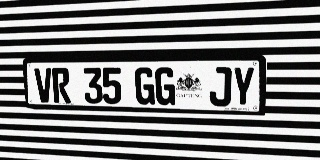3: (83, 68, 103, 104)
5: (102, 67, 122, 104)
G: (135, 67, 155, 105), (155, 67, 175, 105)
J: (209, 67, 232, 106)
R: (52, 68, 71, 103)
V: (34, 68, 53, 103)
Y: (232, 67, 255, 107)
